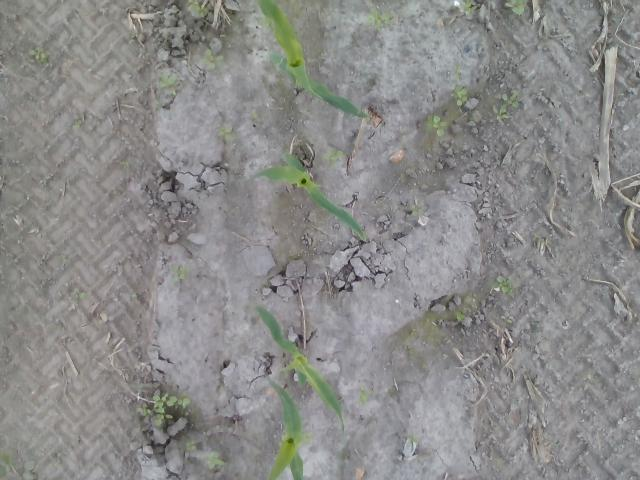Maize: (255, 0, 368, 117), (255, 304, 346, 434), (249, 148, 366, 244), (264, 371, 304, 480)
Weeds: (132, 388, 192, 422), (490, 88, 522, 126), (0, 447, 34, 480), (450, 64, 468, 106), (198, 47, 224, 72), (426, 112, 450, 137), (158, 71, 180, 96), (368, 7, 394, 28), (320, 144, 347, 162), (188, 0, 210, 18), (506, 0, 530, 16), (206, 452, 227, 470), (496, 274, 512, 297), (30, 46, 50, 64), (454, 0, 476, 16), (215, 126, 234, 144), (173, 265, 188, 281), (357, 386, 371, 403), (72, 286, 86, 302), (185, 440, 197, 452), (302, 432, 314, 444), (118, 159, 130, 169), (456, 312, 468, 322), (530, 231, 541, 241), (550, 439, 562, 448), (500, 314, 512, 323), (71, 120, 81, 130), (408, 434, 417, 442), (410, 328, 418, 336)
